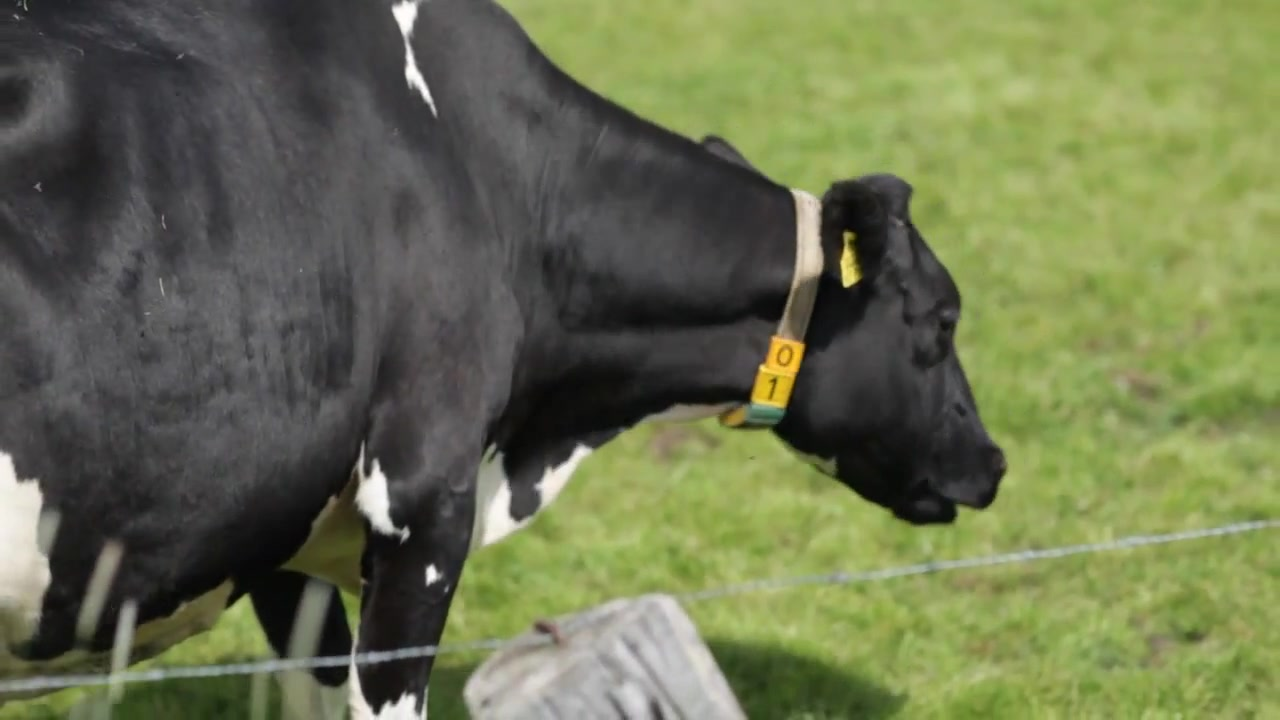cow: (1, 1, 1009, 720)
